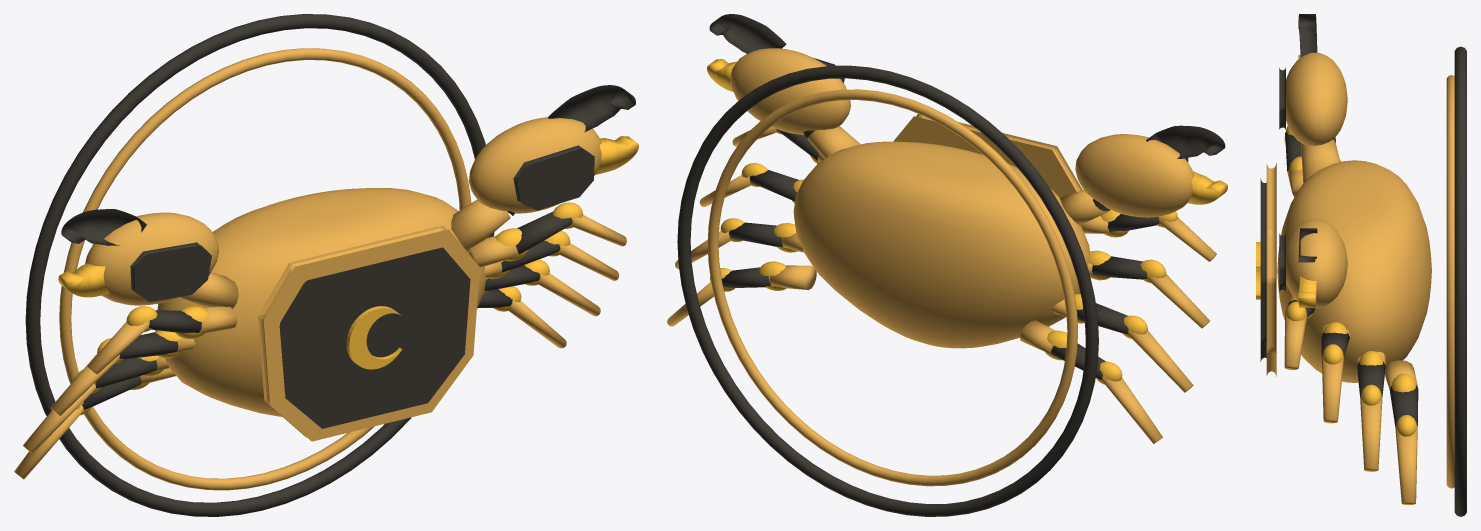
Rendered from cancer-machine.b5a-candidate.glb.
3 views of the same model, side by side, from view 1: azimuth 30°, elevation 25°; view 2: azimuth 150°, elevation 25°; view 3: azimuth 270°, elevation 25° (orthographic). The views are drawn at different scales.
Visible parts, largest first — view 1: body_front_plate, crab_body, ring_outer, ring_inner, body_armor_bezel, claw_right_palm, claw_left_palm, claw_right_palm_cap, claw_left_palm_cap, pincer_right_upper, pincer_left_upper, claw_right_arm (+21 smaller); view 2: crab_body, ring_outer, ring_inner, claw_left_palm, claw_right_palm, body_armor_bezel, pincer_right_upper, pincer_left_upper, leg_left_04_lower, leg_left_03_lower, leg_left_02_lower, claw_right_arm (+11 smaller); view 3: crab_body, ring_outer, claw_left_palm, claw_right_palm, ring_inner, body_armor_bezel, leg_right_04_lower, leg_right_03_lower, body_front_plate, leg_right_02_lower, claw_left_arm, leg_right_01_lower (+18 smaller).
Part boxes in pixels (x1=…): body_front_plate: x1=279, y1=247, x2=470, y2=428; crab_body: x1=155, y1=188, x2=486, y2=416; ring_outer: x1=25, y1=14, x2=494, y2=516; ring_inner: x1=59, y1=48, x2=471, y2=490; body_armor_bezel: x1=258, y1=225, x2=479, y2=441; claw_right_palm: x1=469, y1=117, x2=601, y2=213; claw_left_palm: x1=85, y1=212, x2=218, y2=305; claw_right_palm_cap: x1=513, y1=145, x2=594, y2=210; claw_left_palm_cap: x1=130, y1=242, x2=211, y2=301; pincer_right_upper: x1=548, y1=85, x2=635, y2=132; pincer_left_upper: x1=61, y1=209, x2=146, y2=245; claw_right_arm: x1=451, y1=199, x2=510, y2=253; crab_body: x1=793, y1=141, x2=1089, y2=348; ring_outer: x1=677, y1=65, x2=1098, y2=516; ring_inner: x1=707, y1=89, x2=1077, y2=486; claw_left_palm: x1=1075, y1=134, x2=1194, y2=217; claw_right_palm: x1=730, y1=48, x2=850, y2=134; body_armor_bezel: x1=893, y1=114, x2=1082, y2=197; pincer_right_upper: x1=709, y1=14, x2=786, y2=53; pincer_left_upper: x1=1146, y1=125, x2=1225, y2=158; leg_left_04_lower: x1=1102, y1=376, x2=1162, y2=443; leg_left_03_lower: x1=1128, y1=330, x2=1193, y2=392; leg_left_02_lower: x1=1146, y1=274, x2=1209, y2=328; claw_right_arm: x1=807, y1=126, x2=860, y2=158; crab_body: x1=1277, y1=160, x2=1431, y2=382; ring_outer: x1=1454, y1=46, x2=1466, y2=516; claw_left_palm: x1=1286, y1=52, x2=1347, y2=145; claw_right_palm: x1=1286, y1=219, x2=1347, y2=308; ring_inner: x1=1446, y1=75, x2=1454, y2=488; body_armor_bezel: x1=1266, y1=163, x2=1276, y2=376; leg_right_04_lower: x1=1395, y1=426, x2=1417, y2=505; leg_right_03_lower: x1=1360, y1=396, x2=1382, y2=471; body_front_plate: x1=1260, y1=178, x2=1266, y2=361; leg_right_02_lower: x1=1321, y1=355, x2=1344, y2=423; claw_left_arm: x1=1301, y1=139, x2=1340, y2=183; leg_right_01_lower: x1=1284, y1=312, x2=1307, y2=370.
Size of the model in its own units: 7.62 by 6.21 by 2.78.
